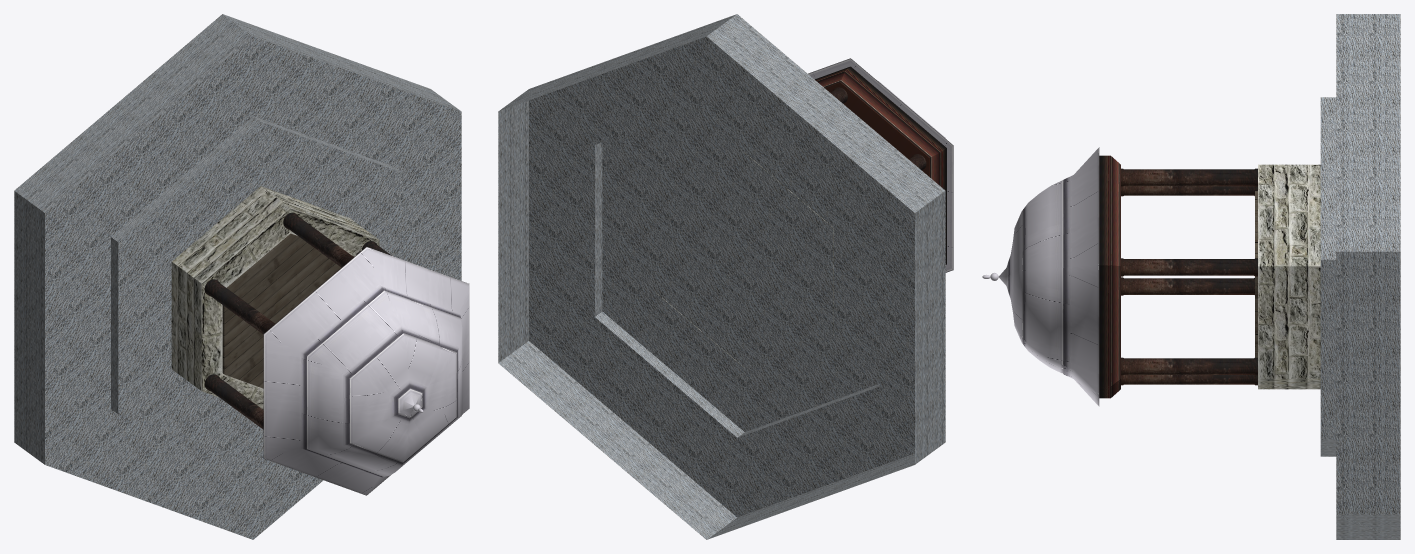
Rendered from Rataskaev.obj.
3 views of the same model, side by side, from view 1: azimuth 30°, elevation 25°; view 2: azimuth 150°, elevation 25°; view 3: azimuth 270°, elevation 25° (orthographic). The views are drawn at different scales.
Visible parts, largest first — view 1: rataskaev; view 2: rataskaev; view 3: rataskaev.
Part boxes in pixels (<box>): rataskaev: <box>14,14,469,539</box>; rataskaev: <box>498,14,953,539</box>; rataskaev: <box>982,14,1400,539</box>.
Bounding box in the file's own units: 5.99 × 6.91 × 4.98.
6 materials, 6 textured.
